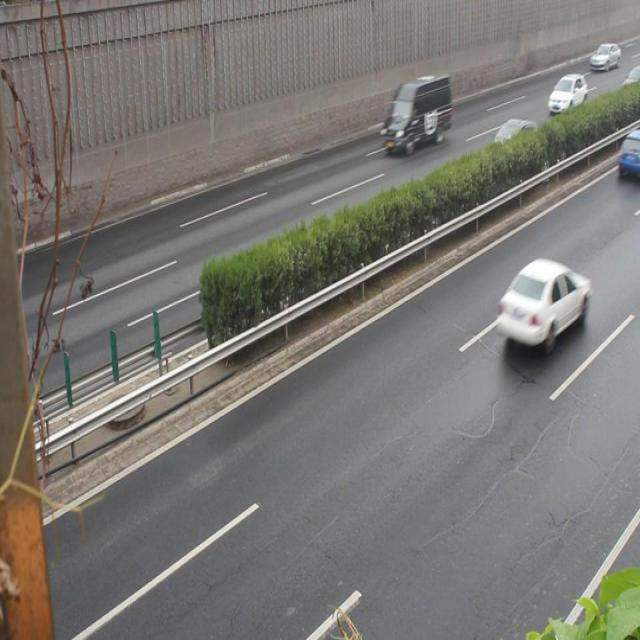car: (498, 258, 589, 346), (486, 116, 538, 171), (545, 71, 586, 116), (615, 129, 640, 183)
truck: (382, 72, 449, 153)
